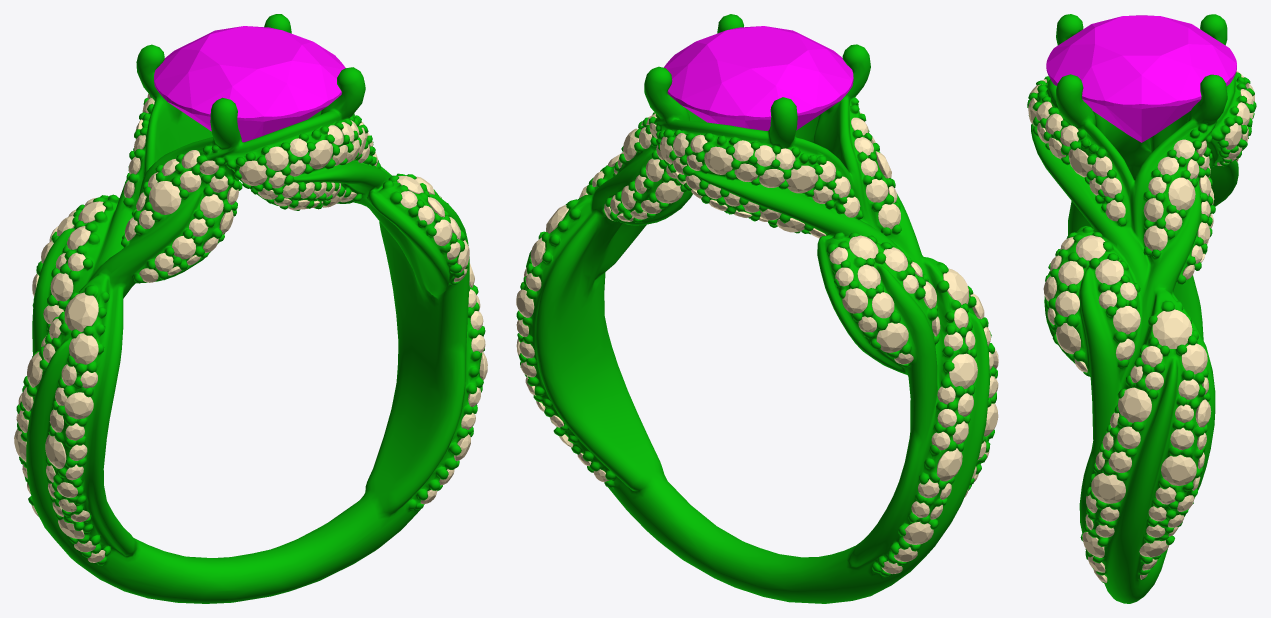
The model's file is BE1D8379_RD_200ct_RENDER.glb.
The picture shows the model from 3 angles, left to right: view 1: azimuth 30°, elevation 25°; view 2: azimuth 150°, elevation 25°; view 3: azimuth 270°, elevation 25°; orthographic projection.
Visible parts, largest first — view 1: Metal 01, CS_Diamond_Round, Diamond_Round_Gem_SH.078, Diamond_Round_Gem_SH.018, Diamond_Round_Gem_SH.121, Diamond_Round_Gem_SH.080; view 2: Metal 01, CS_Diamond_Round, Diamond_Round_Gem_SH.075, Diamond_Round_Gem_SH.071, Diamond_Round_Gem_SH.163; view 3: Metal 01, CS_Diamond_Round, Diamond_Round_Gem_SH.027, Diamond_Round_Gem_SH.024, Diamond_Round_Gem_SH.025, Diamond_Round_Gem_SH.026, Diamond_Round_Gem_SH.142, Diamond_Round_Gem_SH.030, Diamond_Round_Gem_SH.070, Diamond_Round_Gem_SH.023, Diamond_Round_Gem_SH.028, Diamond_Round_Gem_SH.020 (+19 smaller).
Boxes of the visible parts, left/top/right/bottom form: Metal 01: left=16, top=14, right=485, bottom=603; CS_Diamond_Round: left=154, top=26, right=345, bottom=142; Diamond_Round_Gem_SH.078: left=64, top=292, right=98, bottom=331; Diamond_Round_Gem_SH.018: left=149, top=181, right=181, bottom=214; Diamond_Round_Gem_SH.121: left=69, top=333, right=98, bottom=364; Diamond_Round_Gem_SH.080: left=64, top=392, right=93, bottom=419; Metal 01: left=516, top=14, right=997, bottom=603; CS_Diamond_Round: left=664, top=26, right=853, bottom=130; Diamond_Round_Gem_SH.075: left=949, top=353, right=977, bottom=389; Diamond_Round_Gem_SH.071: left=876, top=322, right=908, bottom=352; Diamond_Round_Gem_SH.163: left=786, top=165, right=818, bottom=193; Metal 01: left=1027, top=14, right=1256, bottom=603; CS_Diamond_Round: left=1046, top=15, right=1236, bottom=142; Diamond_Round_Gem_SH.027: left=1152, top=309, right=1192, bottom=348; Diamond_Round_Gem_SH.024: left=1118, top=387, right=1151, bottom=422; Diamond_Round_Gem_SH.025: left=1161, top=454, right=1196, bottom=485; Diamond_Round_Gem_SH.026: left=1091, top=473, right=1125, bottom=503; Diamond_Round_Gem_SH.142: left=1168, top=177, right=1195, bottom=210; Diamond_Round_Gem_SH.030: left=1113, top=306, right=1140, bottom=334; Diamond_Round_Gem_SH.070: left=1181, top=343, right=1207, bottom=374; Diamond_Round_Gem_SH.023: left=1076, top=235, right=1105, bottom=260; Diamond_Round_Gem_SH.028: left=1095, top=259, right=1123, bottom=284; Diamond_Round_Gem_SH.020: left=1056, top=323, right=1080, bottom=354.
Bounding box in the file's own units: 21.54 × 24.98 × 9.63.
